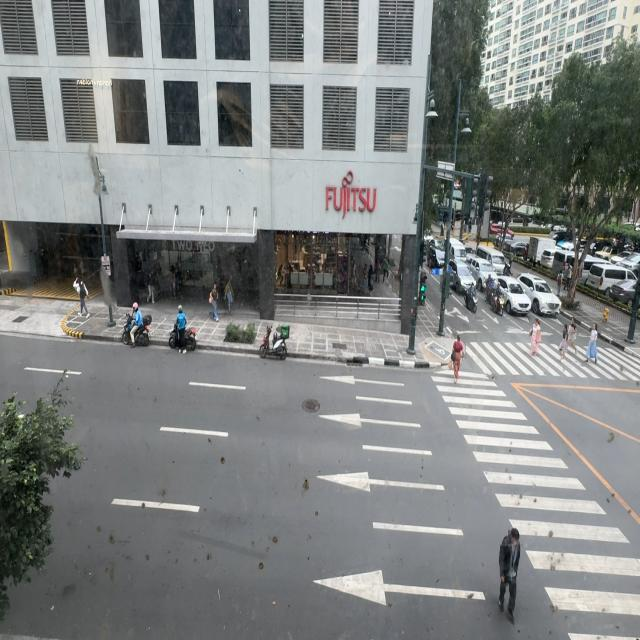crossing: (451, 332, 464, 384), (585, 323, 598, 363), (530, 319, 542, 357), (558, 322, 569, 359), (567, 318, 578, 354)
jaywalking: (498, 528, 520, 624)
pedestrain: (74, 274, 90, 316), (210, 281, 219, 321), (224, 279, 234, 314), (562, 262, 570, 290), (567, 266, 572, 290)
